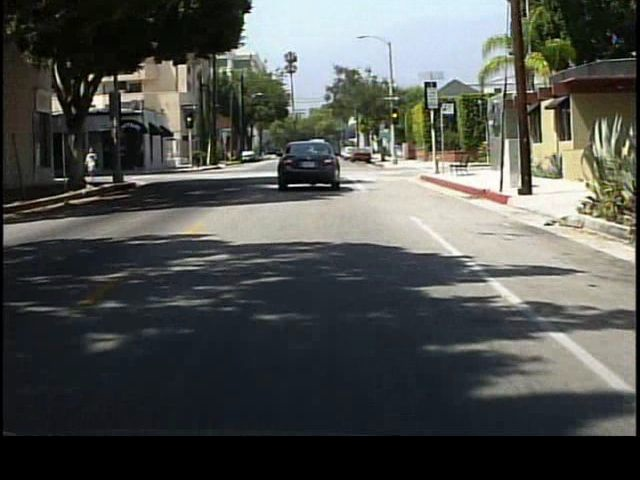person: (85, 142, 99, 184)
